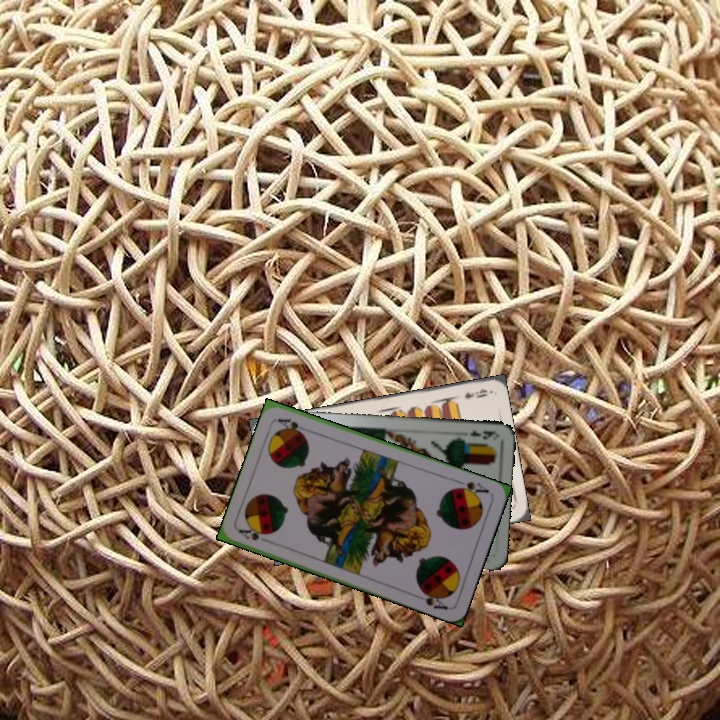E9: (461, 384, 490, 402)
EK: (466, 426, 499, 442)
SA: (451, 476, 492, 499), (235, 525, 274, 546)
